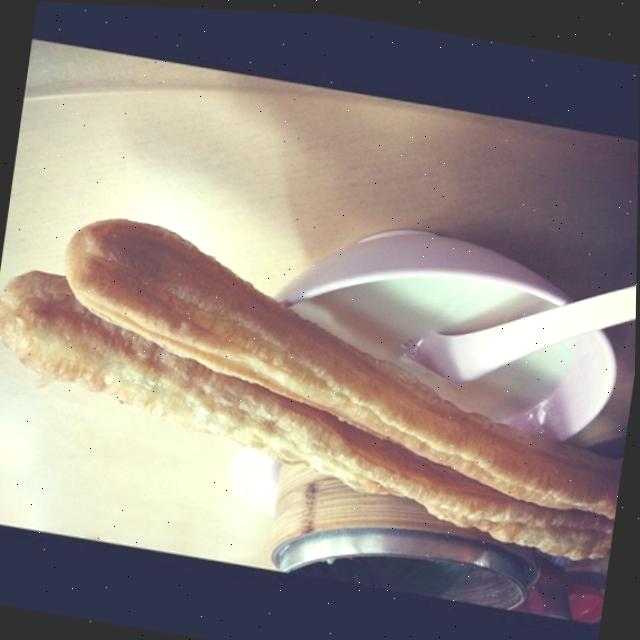炸货点心: (0, 75, 639, 640)
